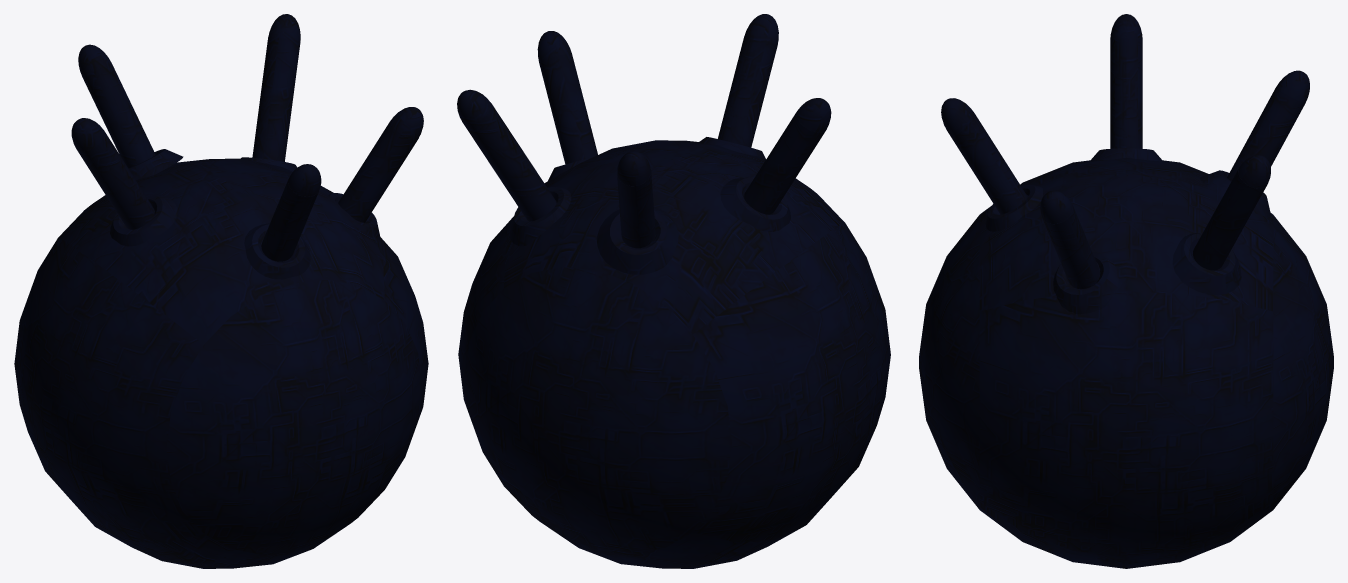
Rendered from mine.glb.
3 views of the same model, side by side, from view 1: azimuth 30°, elevation 25°; view 2: azimuth 150°, elevation 25°; view 3: azimuth 270°, elevation 25° (orthographic). The views are drawn at different scales.
Visible parts, largest first — view 1: mergedBlocks(Clone); view 2: mergedBlocks(Clone); view 3: mergedBlocks(Clone).
Part boxes in pixels (left/top/right/bottom): mergedBlocks(Clone): left=14, top=14, right=428, bottom=568; mergedBlocks(Clone): left=457, top=14, right=890, bottom=568; mergedBlocks(Clone): left=919, top=14, right=1333, bottom=568.
Bounding box in the file's own units: 0.9 × 1.12 × 0.9.
Materials: 1 (1 with a texture image).
